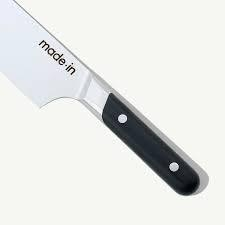Knife: (0, 0, 209, 196)
